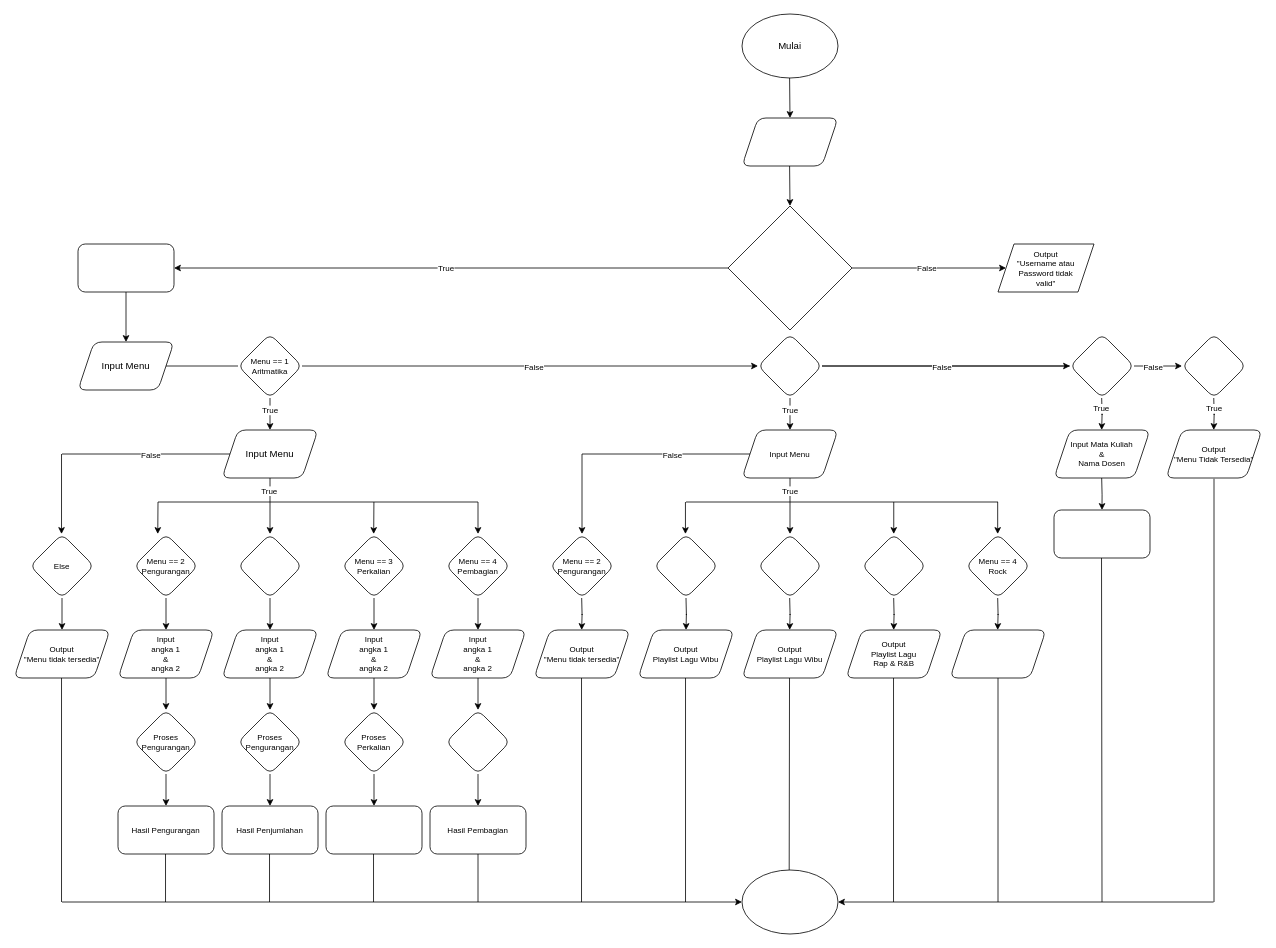
Image size: 1276x948. Some labels were removed from this diagram. The centre of each missing label's shape, as x and y in pixels:
"Default" belongs at (1213,365).
"Hasil Perkalian" belongs at (373,829).
"Input Username & Password" belongs at (789,141).
"Menu == 1 Galau" belongs at (789,565).
"Menu == 1 Penjumlahan" belongs at (269,565).
"Menu == 2 Playlist Lagu" belongs at (789,365).
"Menu == 2 Wibu" belongs at (685,565).
"Menu == 3 Gacha Nilai MK" belongs at (1101,365).
"Menu == 3 Rap & R&B" belongs at (893,565).
"Menu Utama (1 - 3)" belongs at (125,267).
"Nilai yang keluar secara random" belongs at (1101,533).
"Output Playlist Lagu Rock" belongs at (997,653).
"Proses Pembagian" belongs at (477,741).
"Selesai" belongs at (789,901).
"Username (dzaky rafi'annur muhammad) Password (2211016210004)" belongs at (789,267).
